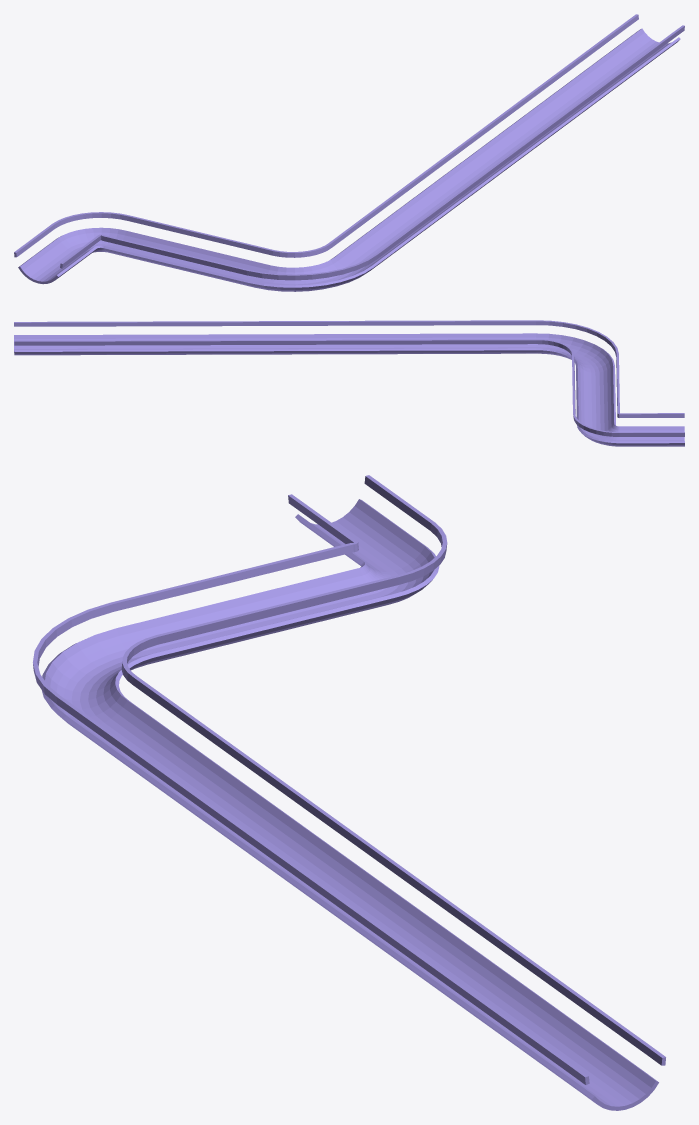
The model's file is scen_III_spir_wejscie-b.fbx.
3 views of the same model, one above another, from view 1: azimuth 30°, elevation 25°; view 2: azimuth 150°, elevation 25°; view 3: azimuth 270°, elevation 25° (orthographic). The views are drawn at different scales.
Visible parts, largest first — view 1: wejście zejście; view 2: wejście zejście; view 3: wejście zejście.
Boxes of the visible parts, x1,y1,x2,y2 form: wejście zejście: (14, 14, 684, 291); wejście zejście: (14, 320, 684, 446); wejście zejście: (33, 475, 665, 1110).
Bounding box in the file's own units: 2423 × 80 × 1077.
